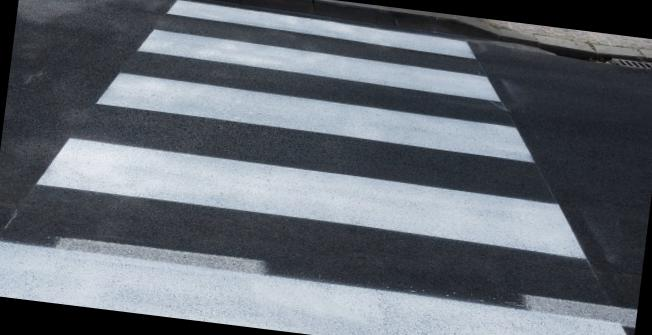faded_road_lines: (48, 233, 268, 281), (514, 292, 638, 326)
